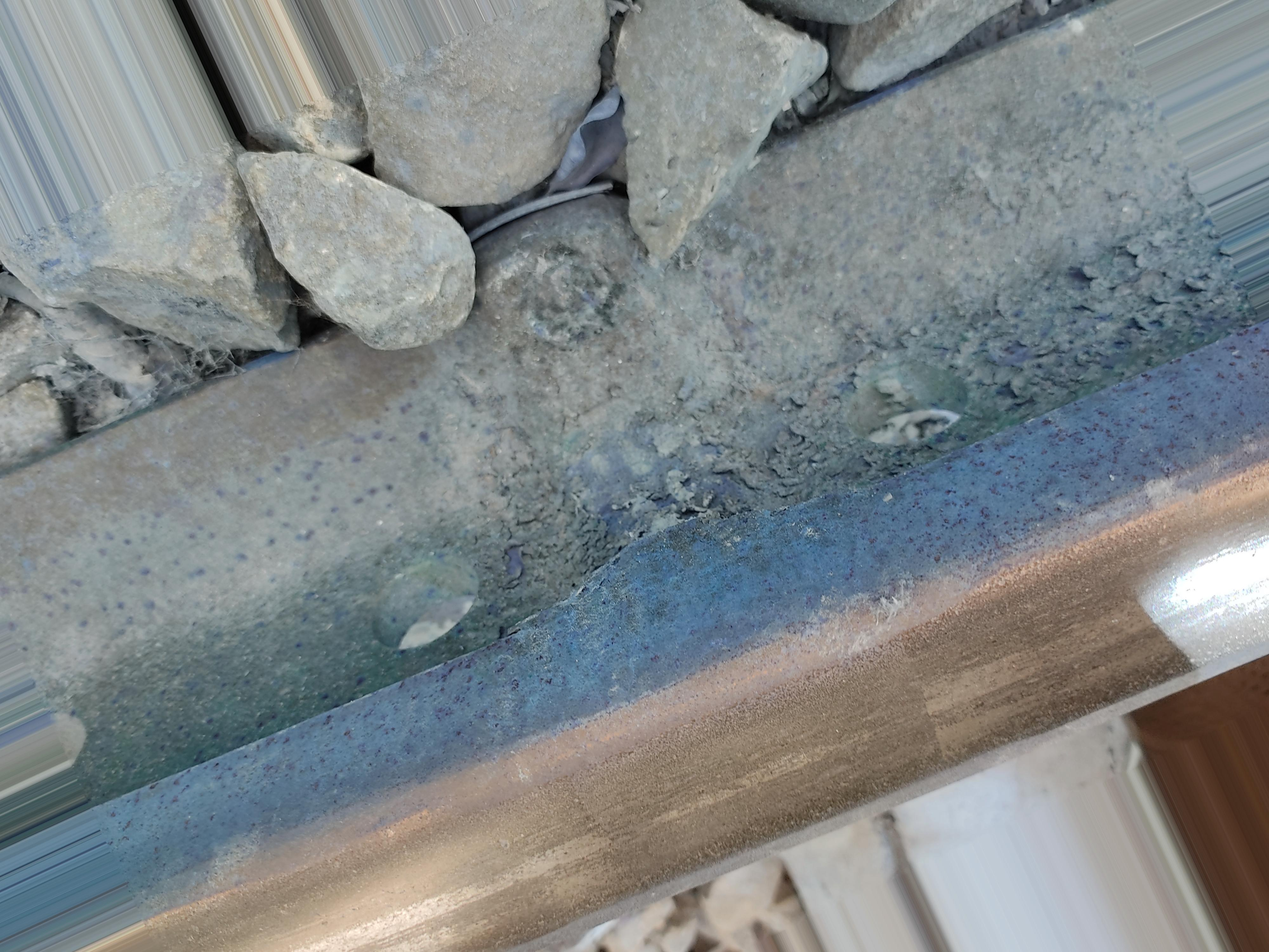tracks_fault: (441, 217, 1237, 584)
